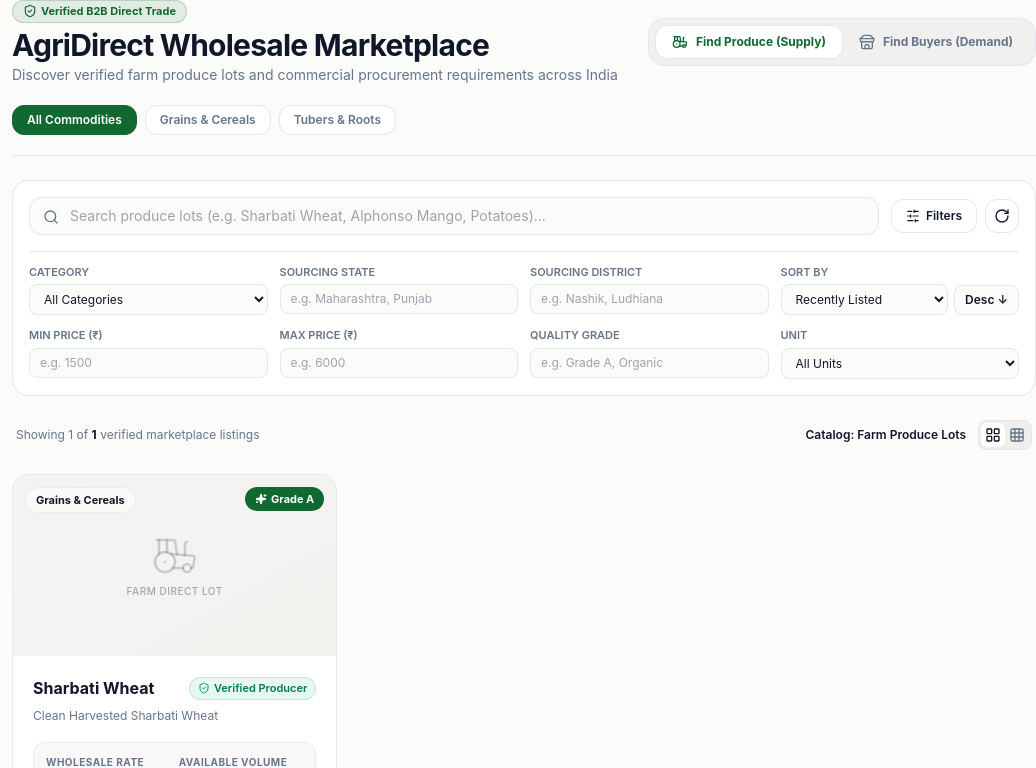
Test: MarketplacePage › switches to 'Find Buyers' tab and renders buyer requirements
The width and height of the screenshot is (1036, 768).
Expected: the text "Sharbati Wheat" is shown, [33,676,154,700]
Click the tab "Find Buyers (Demand)". click: coordinates (936, 42)
box: [843,26,1029,58]
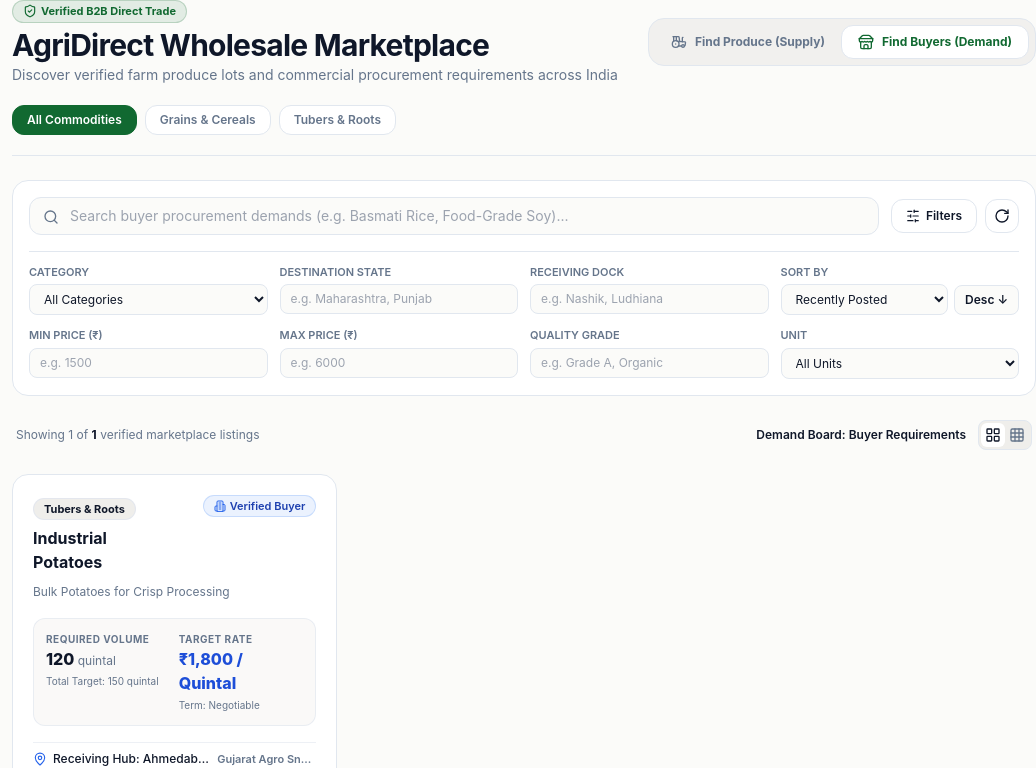
Expected: the text "Industrial Potatoes" is shown, [33,528,107,572]
Expected: the text "120" is shown, [46,648,74,668]
Expected: the text "Gujarat Agro Snacks Ltd" is shown, [217,750,316,766]
